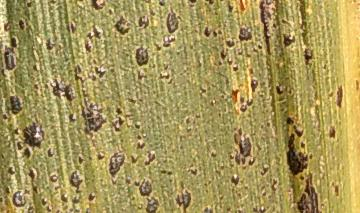tarspot: (258, 1, 280, 56), (77, 97, 108, 136), (295, 170, 322, 213), (285, 131, 309, 178), (20, 119, 46, 151), (49, 76, 78, 102), (233, 126, 253, 160), (163, 6, 184, 34), (174, 182, 192, 213), (112, 13, 133, 38), (107, 151, 126, 177), (68, 168, 85, 195), (133, 44, 151, 67), (235, 22, 254, 43), (3, 45, 17, 72), (6, 94, 23, 116), (10, 189, 27, 208), (85, 24, 104, 40), (138, 177, 152, 198), (77, 75, 89, 99), (144, 196, 160, 213), (281, 31, 296, 49), (302, 47, 315, 67), (161, 33, 177, 49), (142, 149, 156, 167), (291, 123, 306, 138), (248, 77, 260, 95), (335, 85, 344, 109), (137, 14, 150, 30), (110, 117, 122, 134), (330, 180, 341, 198), (25, 167, 38, 182), (21, 146, 33, 162), (83, 38, 94, 55), (258, 162, 270, 177), (72, 63, 82, 80), (94, 66, 107, 79), (44, 37, 56, 51), (90, 1, 105, 12), (229, 172, 240, 187), (197, 85, 209, 97), (8, 36, 19, 49), (14, 139, 25, 152), (67, 112, 78, 125), (280, 16, 293, 27), (273, 83, 284, 96), (3, 19, 13, 33), (130, 152, 140, 166), (270, 177, 279, 192), (86, 191, 97, 203), (136, 70, 148, 81), (224, 37, 235, 49), (189, 165, 199, 178), (328, 123, 336, 139), (158, 71, 172, 80), (203, 24, 212, 38), (48, 173, 59, 184), (46, 147, 56, 159), (234, 151, 242, 166), (219, 48, 228, 61), (226, 1, 235, 14), (17, 18, 25, 32), (69, 20, 77, 34), (59, 193, 69, 204), (71, 195, 81, 206), (247, 155, 257, 166), (134, 141, 146, 150), (153, 41, 162, 53), (202, 204, 214, 213), (30, 185, 40, 195), (284, 115, 294, 125), (39, 196, 48, 207), (88, 72, 97, 83), (298, 139, 306, 151), (77, 155, 86, 165), (96, 151, 105, 161), (114, 106, 123, 116), (117, 116, 126, 126), (110, 177, 119, 187), (148, 8, 157, 18), (245, 96, 254, 106), (258, 203, 267, 213), (237, 94, 245, 105), (106, 6, 113, 18), (7, 166, 16, 175), (133, 121, 142, 130), (166, 76, 175, 85), (239, 104, 248, 113), (12, 126, 20, 136), (126, 97, 136, 105), (210, 149, 218, 159), (354, 79, 360, 92), (156, 1, 167, 8), (1, 66, 7, 78), (31, 61, 37, 73), (1, 112, 9, 121), (23, 187, 31, 196), (124, 177, 132, 186), (158, 168, 167, 176), (183, 116, 192, 124), (193, 110, 201, 119), (231, 63, 239, 72), (236, 47, 244, 56), (251, 46, 260, 54), (297, 173, 305, 182), (4, 185, 11, 195), (226, 56, 233, 66), (240, 157, 247, 167), (57, 42, 65, 50), (32, 82, 40, 90), (42, 82, 50, 90), (132, 179, 140, 187), (307, 152, 315, 160), (26, 205, 35, 212), (162, 62, 169, 71), (245, 51, 252, 60), (248, 67, 255, 76), (251, 204, 258, 213), (64, 23, 70, 33), (204, 1, 216, 6), (25, 1, 32, 9), (45, 205, 53, 212), (86, 154, 93, 162), (91, 58, 98, 66), (185, 1, 199, 5), (210, 99, 217, 107), (270, 22, 278, 29), (228, 153, 235, 161), (228, 161, 235, 169), (231, 125, 239, 132), (287, 88, 294, 96), (212, 29, 218, 38), (109, 67, 116, 74), (135, 133, 142, 140), (217, 28, 224, 35), (185, 125, 192, 132), (215, 169, 222, 176), (224, 204, 231, 211), (236, 191, 243, 198), (327, 91, 334, 98), (319, 201, 326, 208), (53, 185, 61, 191), (66, 101, 74, 107), (321, 63, 327, 71), (167, 170, 174, 176), (217, 60, 223, 67), (213, 11, 220, 17), (257, 43, 263, 50), (243, 184, 249, 191), (239, 178, 245, 185), (1, 152, 6, 160), (48, 1, 58, 5), (220, 93, 225, 101), (61, 183, 67, 189), (151, 63, 157, 69), (218, 195, 224, 201), (261, 191, 267, 197), (24, 20, 29, 27), (55, 208, 62, 213), (68, 207, 75, 212), (137, 98, 144, 103), (189, 3, 196, 8), (259, 123, 264, 130), (266, 121, 271, 128), (265, 202, 270, 209), (74, 208, 80, 213), (86, 208, 92, 213), (168, 178, 173, 184), (220, 164, 225, 170), (230, 187, 236, 192), (226, 13, 232, 18), (204, 189, 209, 195), (203, 181, 207, 188), (241, 167, 248, 171), (217, 112, 222, 117), (1, 196, 4, 203), (3, 163, 7, 168), (221, 36, 226, 40), (219, 1, 224, 3)
